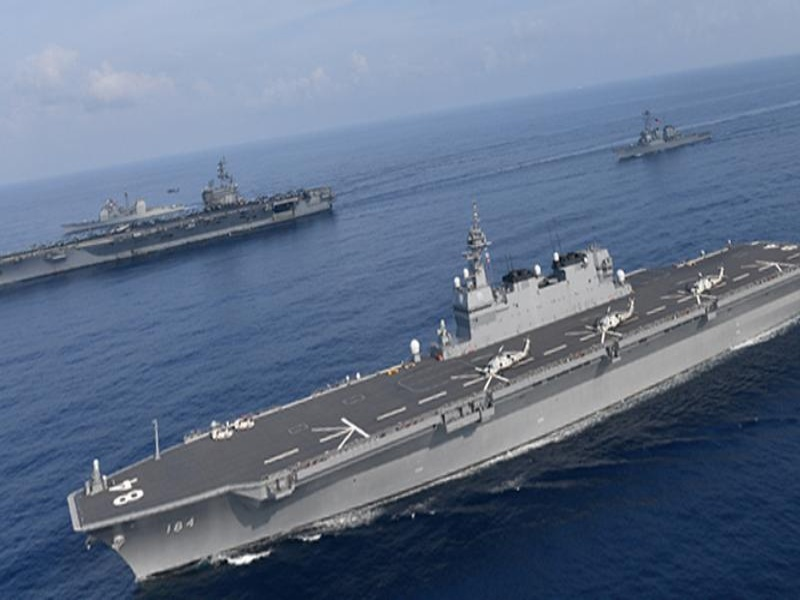carrier: (80, 263, 798, 560), (8, 184, 343, 284)
cruise: (610, 112, 720, 162)
